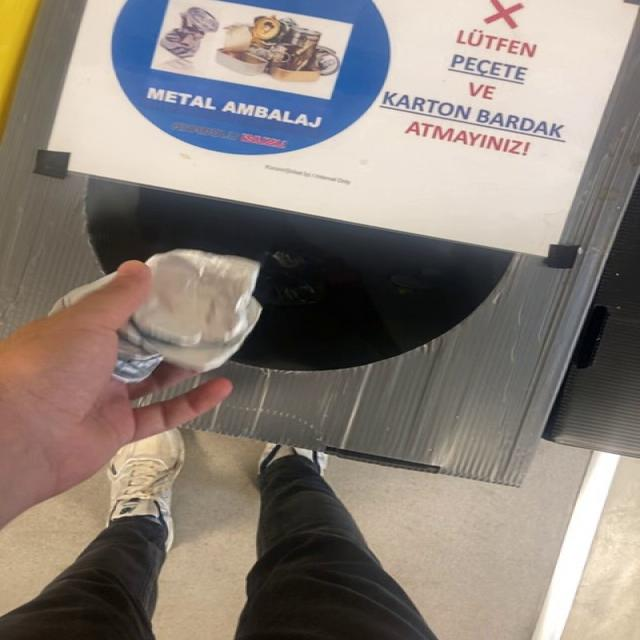bin: (1, 0, 639, 486)
metal: (117, 250, 261, 380), (132, 249, 260, 348)
